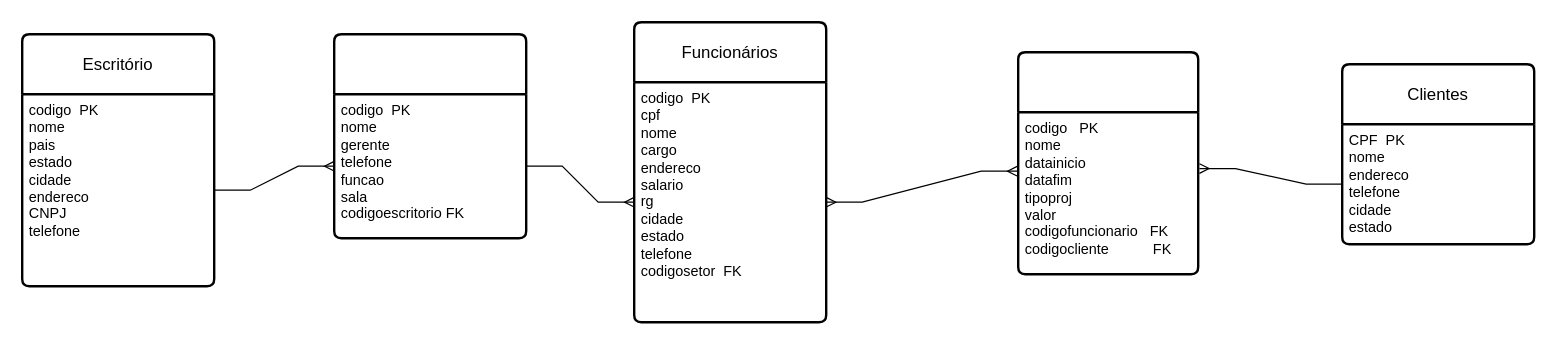
Some shapes in this 1555 by 343 pixel diagram are drawn without their labels. Here are the shapes that lost their labels. From the top down, the box of each, then its label:
(332, 32, 527, 239): Setores
(1016, 50, 1199, 275): Projetos
